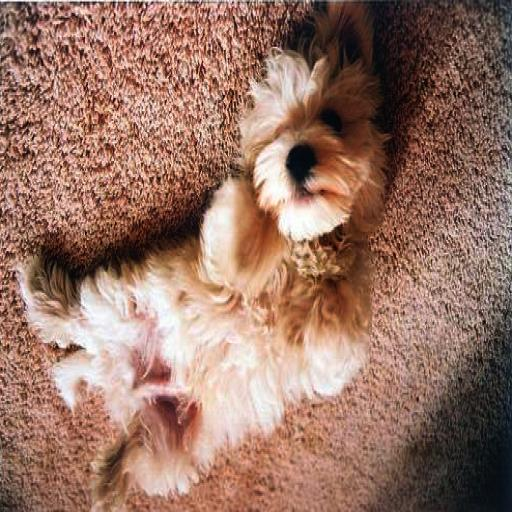dog_face: (234, 32, 388, 237)
